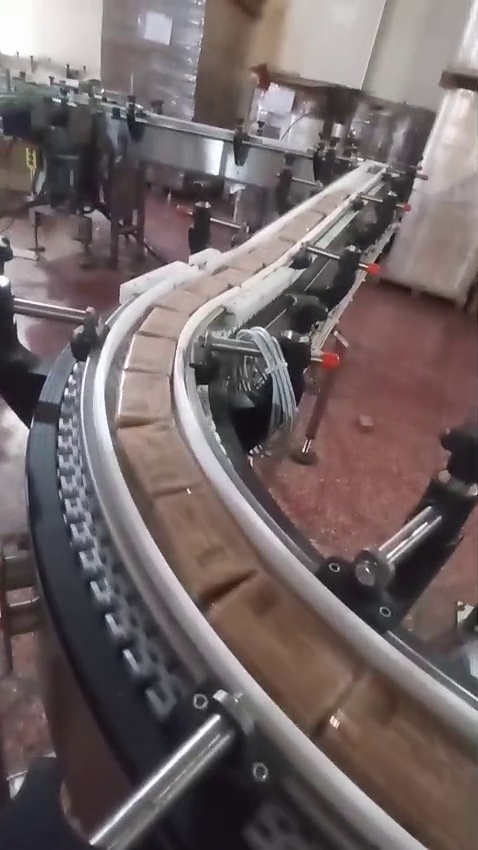savon: (220, 591, 478, 850), (200, 0, 287, 118), (173, 528, 248, 597), (126, 416, 182, 486), (0, 145, 40, 192), (121, 449, 144, 496), (359, 656, 384, 676)
